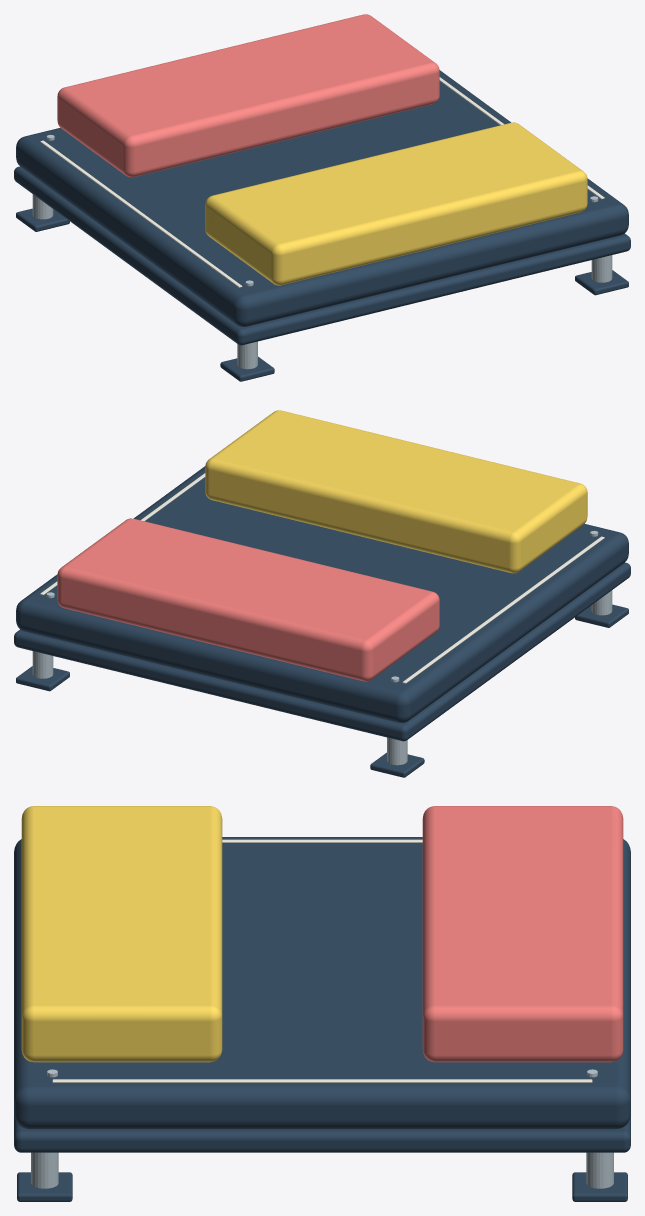
Rendered from party-obstacle-course-party-obstacle-course-gap-jump-p-e21c1def__28929.glb.
3 renders of one model, top to bottom at view 1: azimuth 30°, elevation 25°; view 2: azimuth 150°, elevation 25°; view 3: azimuth 270°, elevation 25°, orthographic. The views are drawn at different scales.
Visible parts, largest first — view 1: party-obstacle-course-gap-jump-platform; view 2: party-obstacle-course-gap-jump-platform; view 3: party-obstacle-course-gap-jump-platform.
Part boxes in pixels (box(x1,y1,x2,y2)): party-obstacle-course-gap-jump-platform: box(14, 14, 630, 381); party-obstacle-course-gap-jump-platform: box(14, 410, 630, 777); party-obstacle-course-gap-jump-platform: box(14, 806, 630, 1201).
Bounding box in the file's own units: 4 × 1.2 × 4.
